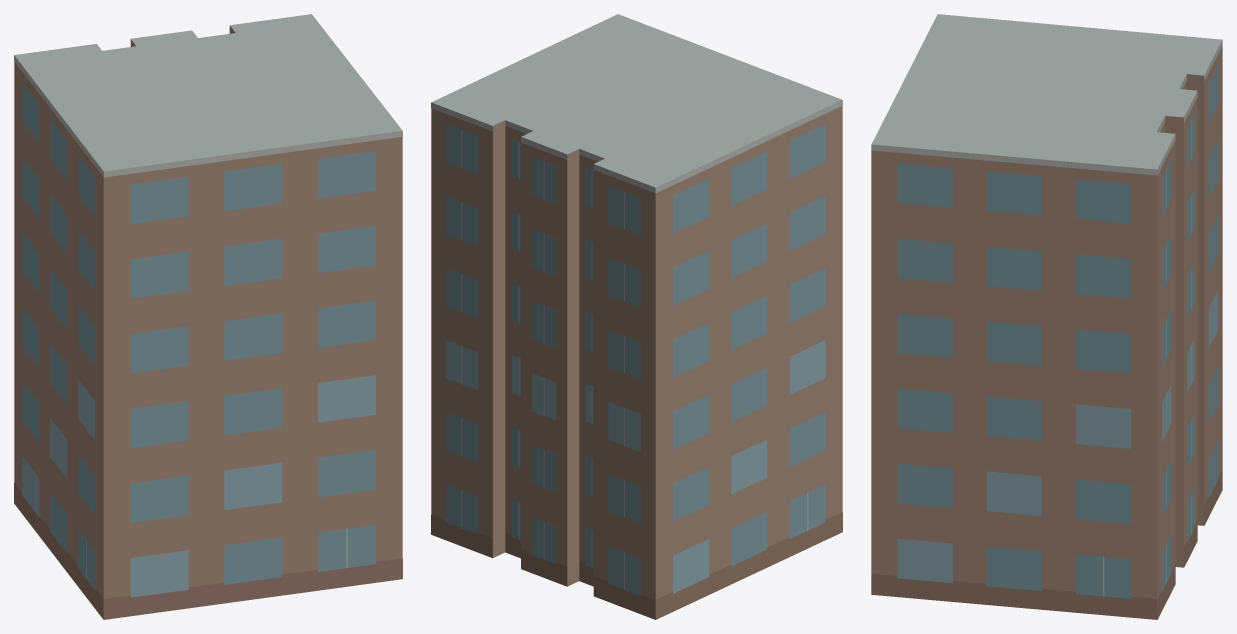
The model's file is survey-upis-32744315.glb.
The picture shows the model from 3 angles, left to right: view 1: azimuth 30°, elevation 25°; view 2: azimuth 150°, elevation 25°; view 3: azimuth 270°, elevation 25°; orthographic projection. The views are drawn at different scales.
Parts seen in each view (by area): view 1: survey-upis-32744315.tmp; view 2: survey-upis-32744315.tmp; view 3: survey-upis-32744315.tmp.
Boxes of the visible parts, box(x1,y1,x2,y2) form: survey-upis-32744315.tmp: box(14, 14, 402, 619); survey-upis-32744315.tmp: box(431, 14, 842, 619); survey-upis-32744315.tmp: box(871, 14, 1222, 619).
Size of the model in its own units: 13.57 by 18.3 by 12.94.
